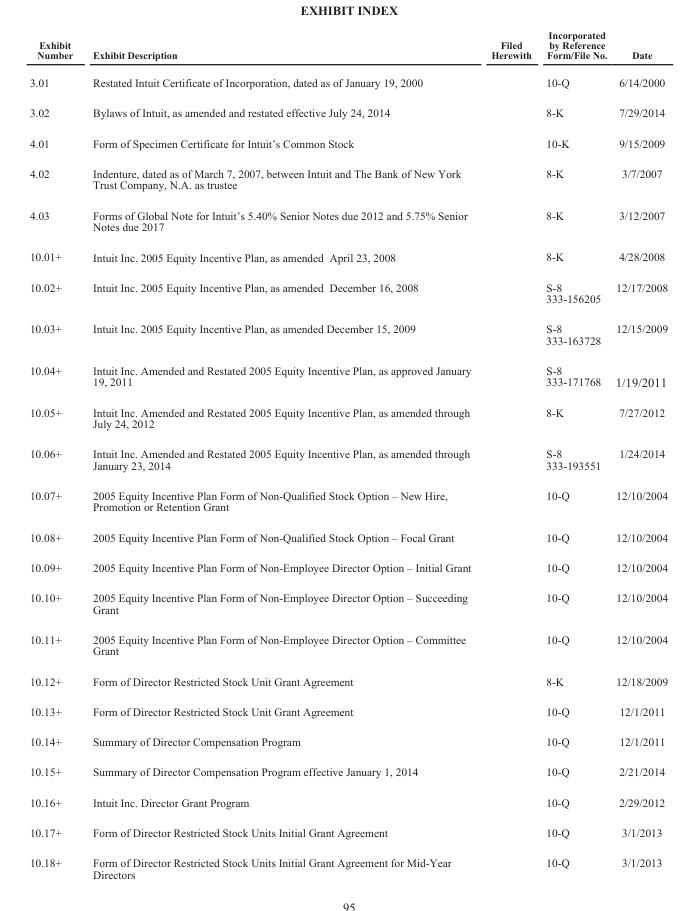table: (28, 29, 667, 880)
table column: (82, 29, 480, 880), (538, 29, 610, 880), (480, 29, 538, 880), (610, 29, 667, 880), (28, 29, 82, 880)
table column header: (28, 29, 667, 68)
table row: (28, 354, 667, 397), (28, 199, 667, 241), (28, 479, 667, 521), (28, 623, 667, 665), (28, 158, 667, 199), (28, 272, 667, 313), (28, 313, 667, 354), (28, 397, 667, 438), (28, 438, 667, 479), (28, 582, 667, 623), (28, 29, 667, 68), (28, 847, 667, 880), (28, 127, 667, 158), (28, 241, 667, 272), (28, 551, 667, 582), (28, 695, 667, 726), (28, 786, 667, 817), (28, 97, 667, 127), (28, 521, 667, 551), (28, 665, 667, 695), (28, 726, 667, 756), (28, 756, 667, 786), (28, 817, 667, 847), (28, 68, 667, 97)
